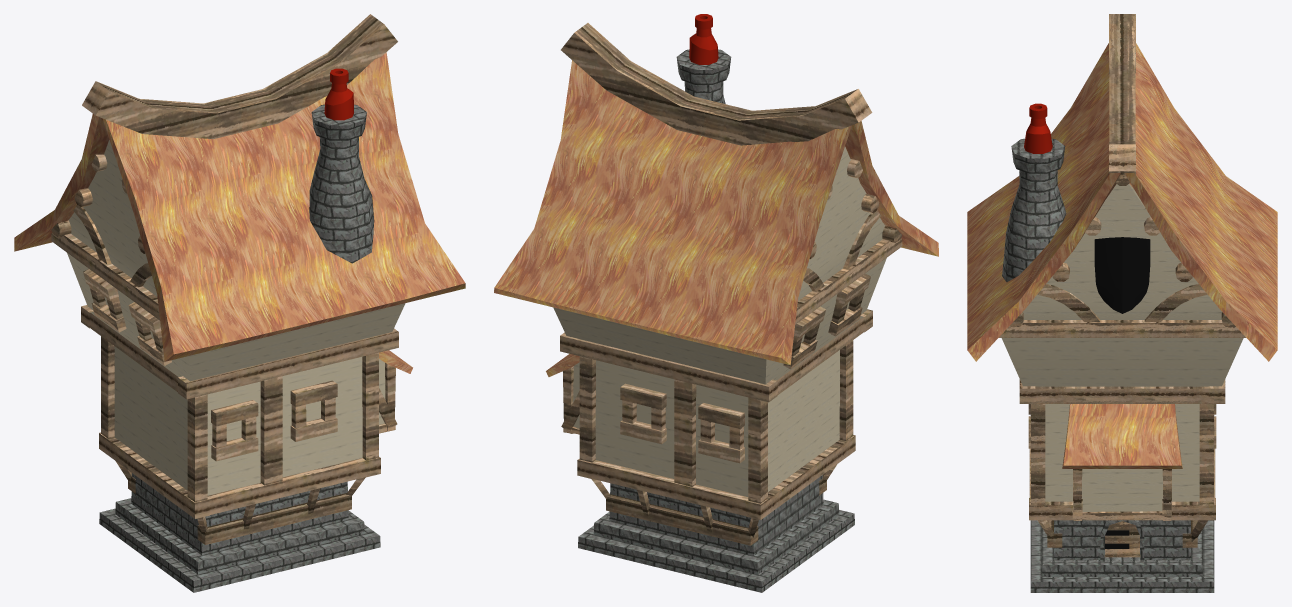
The model's file is Casa_LV2.FBX.
The picture shows the model from 3 angles, left to right: view 1: azimuth 30°, elevation 25°; view 2: azimuth 150°, elevation 25°; view 3: azimuth 270°, elevation 25°; orthographic projection. The views are drawn at different scales.
Visible parts, largest first — view 1: LVL2; view 2: LVL2; view 3: LVL2.
Part boxes in pixels (x1,y1,x2,y2): LVL2: (14,14,465,592); LVL2: (494,14,938,592); LVL2: (967,14,1277,592).
Size of the model in its own units: 0.9827 by 1.5 by 0.8977.
Materials: 6 (4 with a texture image).
